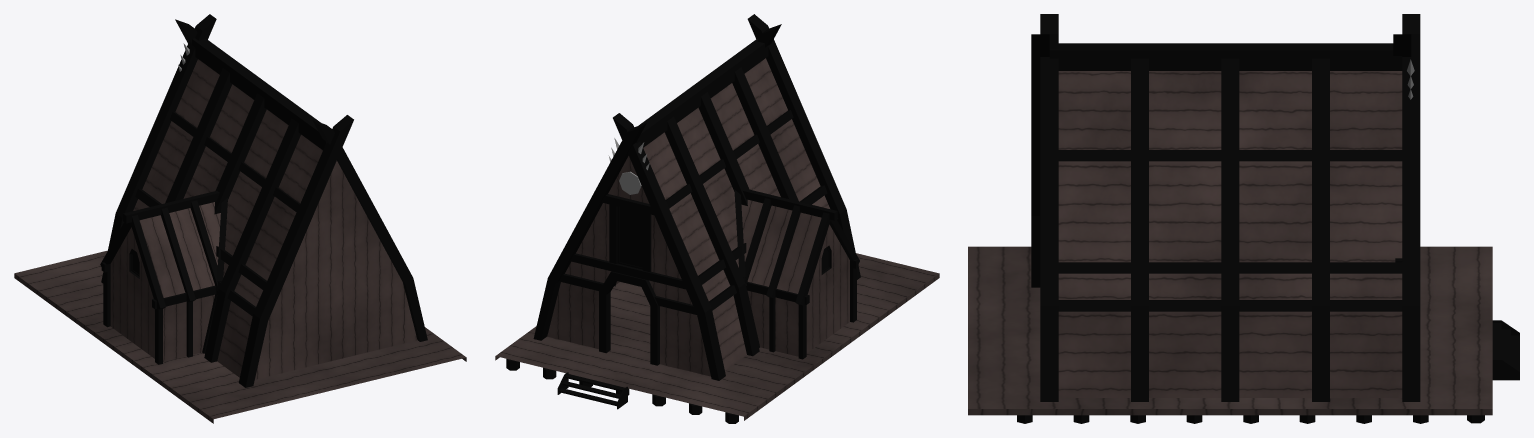
The model's file is dom_2_model_1.fbx.
3 renders of one model, left to right at view 1: azimuth 30°, elevation 25°; view 2: azimuth 150°, elevation 25°; view 3: azimuth 270°, elevation 25°, orthographic. The views are drawn at different scales.
Visible parts, largest first — view 1: Cube.026; view 2: Cube.026; view 3: Cube.026.
Boxes of the visible parts, <box> form: Cube.026: <box>14,14,466,423</box>; Cube.026: <box>495,14,939,423</box>; Cube.026: <box>968,14,1519,423</box>.
Bounding box in the file's own units: 850 × 821 × 1220.
Materials: 4 (2 with a texture image).
